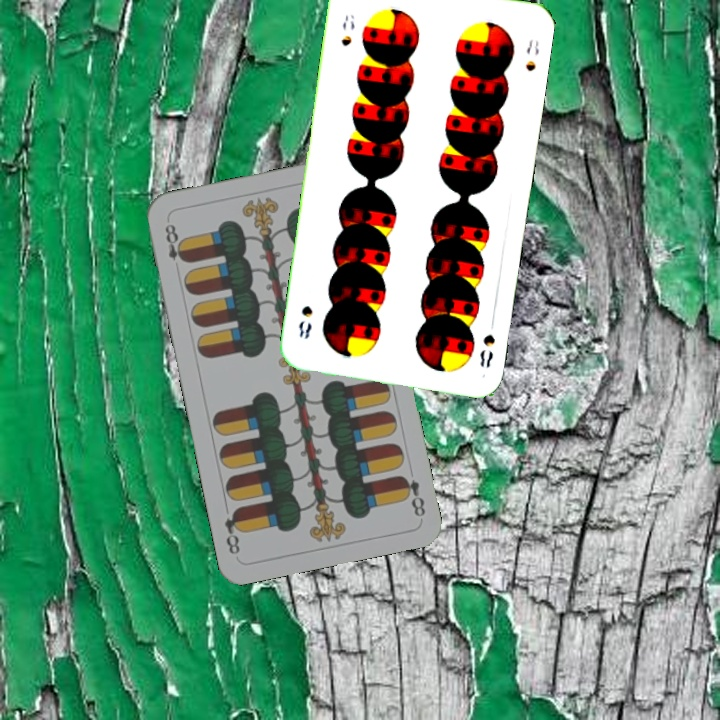E8: (396, 471, 428, 520), (161, 219, 190, 266)
S8: (475, 330, 497, 370), (337, 11, 358, 49)
